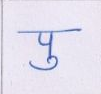u_matra: (30, 56, 60, 72)
